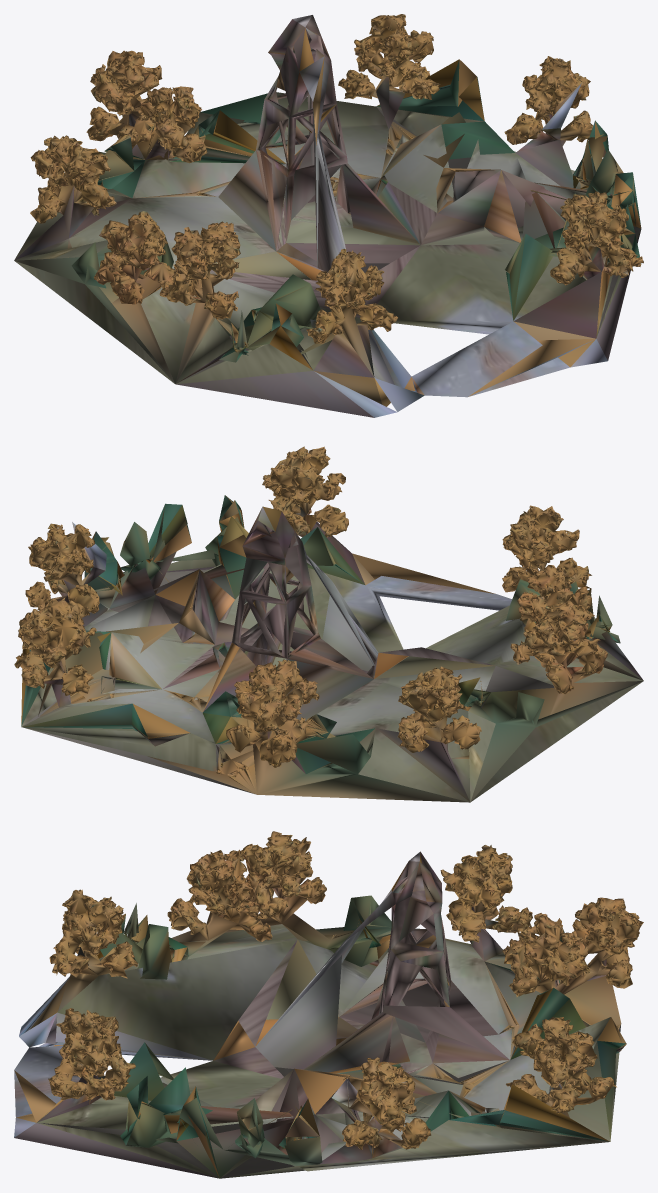
File: m_oak_animated.glb
The picture shows the model from 3 angles, top to bottom: view 1: azimuth 30°, elevation 25°; view 2: azimuth 150°, elevation 25°; view 3: azimuth 270°, elevation 25°; orthographic projection. The views are drawn at different scales.
Parts seen in each view (by area): view 1: m_oak_Textured_Mine_Landscape, m_oak_Animated_Autumn_Crowns; view 2: m_oak_Textured_Mine_Landscape, m_oak_Animated_Autumn_Crowns; view 3: m_oak_Textured_Mine_Landscape, m_oak_Animated_Autumn_Crowns.
Boxes of the visible parts, box(x1,y1,x2,y2) form: m_oak_Textured_Mine_Landscape: box(14, 15, 641, 417); m_oak_Animated_Autumn_Crowns: box(14, 14, 643, 383); m_oak_Textured_Mine_Landscape: box(21, 456, 643, 802); m_oak_Animated_Autumn_Crowns: box(14, 446, 643, 802); m_oak_Textured_Mine_Landscape: box(14, 842, 626, 1178); m_oak_Animated_Autumn_Crowns: box(48, 831, 643, 1169).
Size of the model in its own units: 0.9295 by 0.4777 by 0.9259.
2 materials, 1 textured.
